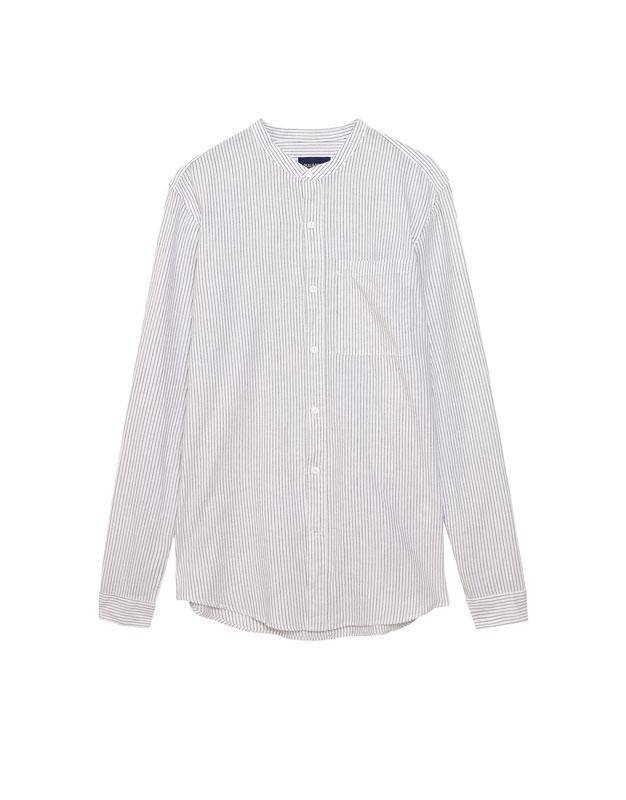teeshirt: (111, 114, 536, 650)
